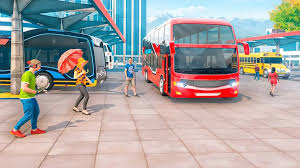bus: (142, 17, 241, 100), (1, 28, 107, 87), (236, 51, 291, 79)
